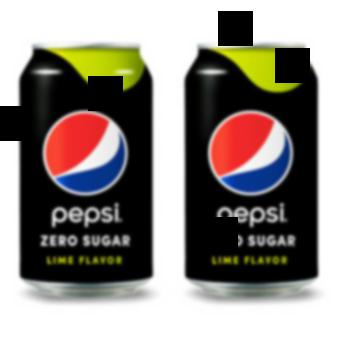pepsi_zero: (18, 40, 161, 302), (179, 42, 319, 297)
